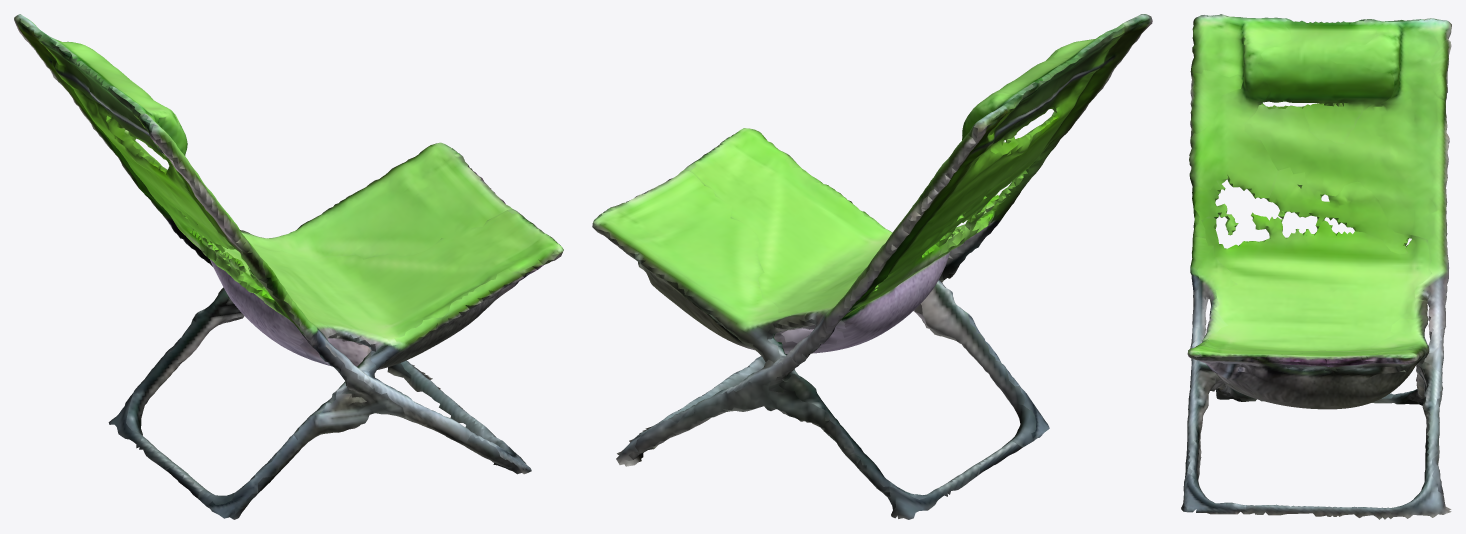
The model's file is chairGreen.fbx.
3 views of the same model, side by side, from view 1: azimuth 30°, elevation 25°; view 2: azimuth 150°, elevation 25°; view 3: azimuth 270°, elevation 25° (orthographic). The views are drawn at different scales.
Visible parts, largest first — view 1: meshes_0_; view 2: meshes_0_; view 3: meshes_0_.
Part boxes in pixels (bbox=[...]): meshes_0_: bbox=[14, 14, 563, 519]; meshes_0_: bbox=[592, 14, 1152, 519]; meshes_0_: bbox=[1181, 14, 1451, 519].
Size of the model in its own units: 0.7928 by 0.7629 by 0.5329.
1 material, 1 textured.
